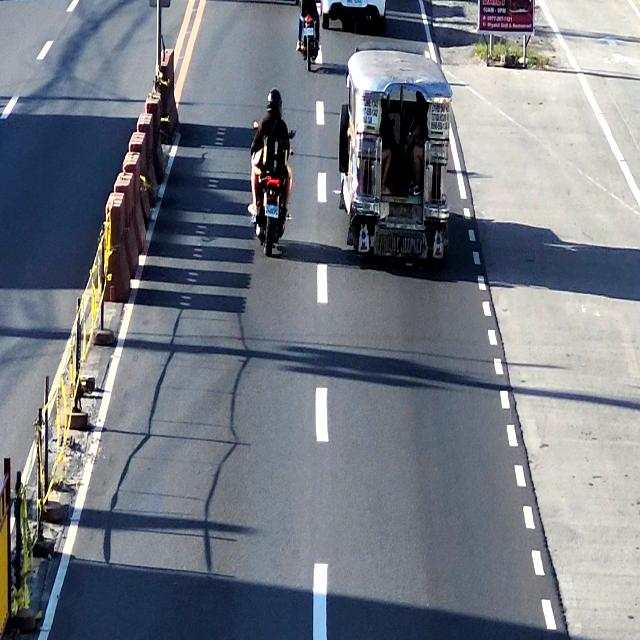Car: (321, 0, 389, 30)
Jeep: (342, 49, 448, 265)
License-Plate: (388, 202, 414, 220), (262, 204, 280, 218)
Motorcycle: (247, 90, 293, 258), (296, 0, 322, 69)
